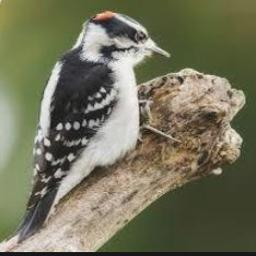Woodpecker: (7, 10, 183, 243)
